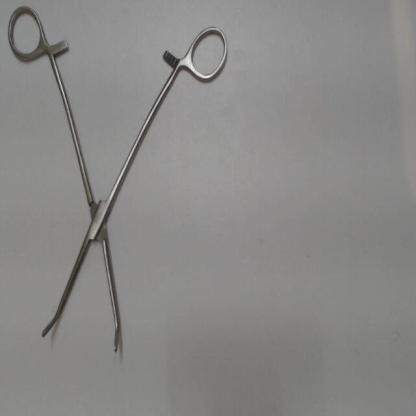Lahey Forceps: (4, 1, 231, 360)
